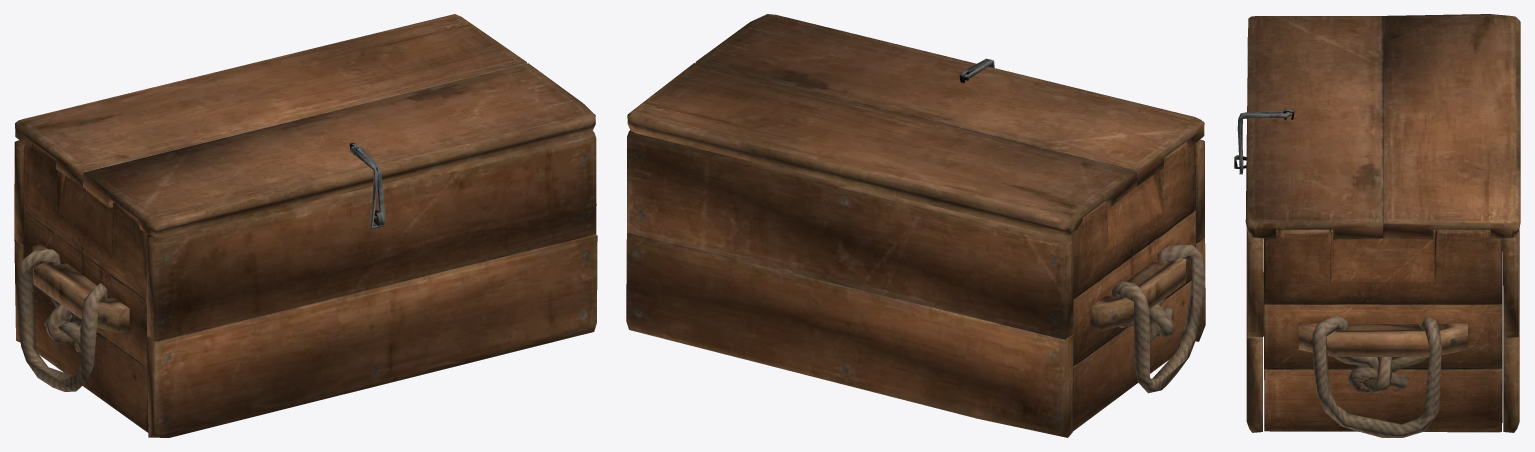
Rendered from crate.glb.
3 renders of one model, left to right at view 1: azimuth 30°, elevation 25°; view 2: azimuth 150°, elevation 25°; view 3: azimuth 270°, elevation 25°, orthographic. The views are drawn at different scales.
Visible parts, largest first — view 1: wooden_crate_01_lid; view 2: wooden_crate_01_lid; view 3: wooden_crate_01_lid.
Part boxes in pixels (x1,y1,x2,y2): wooden_crate_01_lid: (14, 14, 597, 437); wooden_crate_01_lid: (626, 14, 1205, 437); wooden_crate_01_lid: (1234, 14, 1520, 437).
Size of the model in its own units: 0.8192 by 0.3446 by 0.4043.
Materials: 1 (1 with a texture image).
